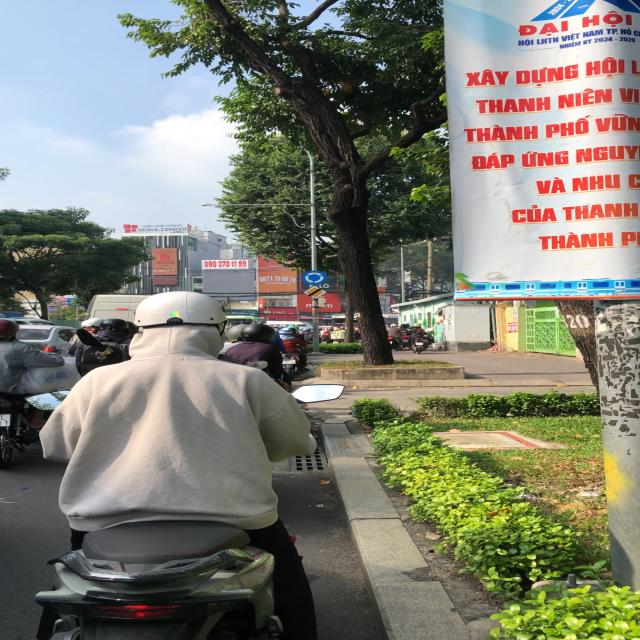Bien bao noi giao nhau chay theo vong xuyen: (298, 268, 329, 286)
